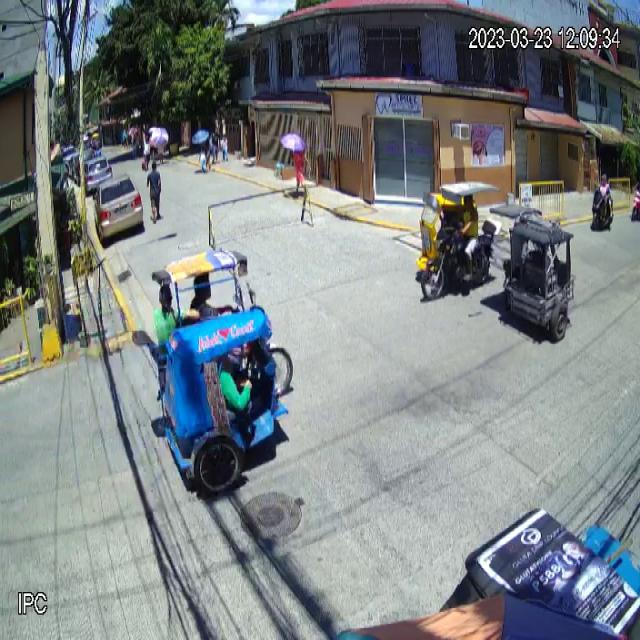Tricycle: (149, 250, 296, 496), (490, 202, 580, 339), (416, 180, 496, 307)
